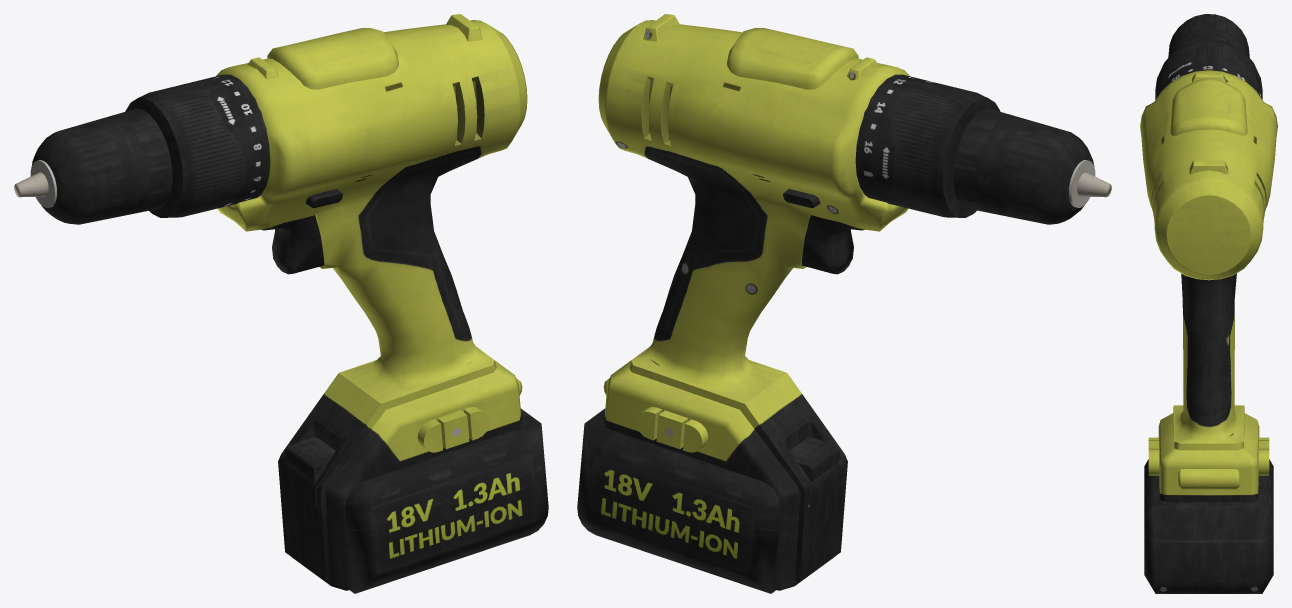
The model's file is Drill_01_2k.gltf.
3 renders of one model, left to right at view 1: azimuth 30°, elevation 25°; view 2: azimuth 150°, elevation 25°; view 3: azimuth 270°, elevation 25°, orthographic. The views are drawn at different scales.
Visible parts, largest first — view 1: Drill_01; view 2: Drill_01; view 3: Drill_01.
Boxes of the visible parts, x1,y1,x2,y2 form: Drill_01: [14, 14, 548, 593]; Drill_01: [577, 14, 1111, 593]; Drill_01: [1140, 14, 1277, 593].
Size of the model in its own units: 0.1829 by 0.1851 by 0.0524.
1 material, 1 textured.
